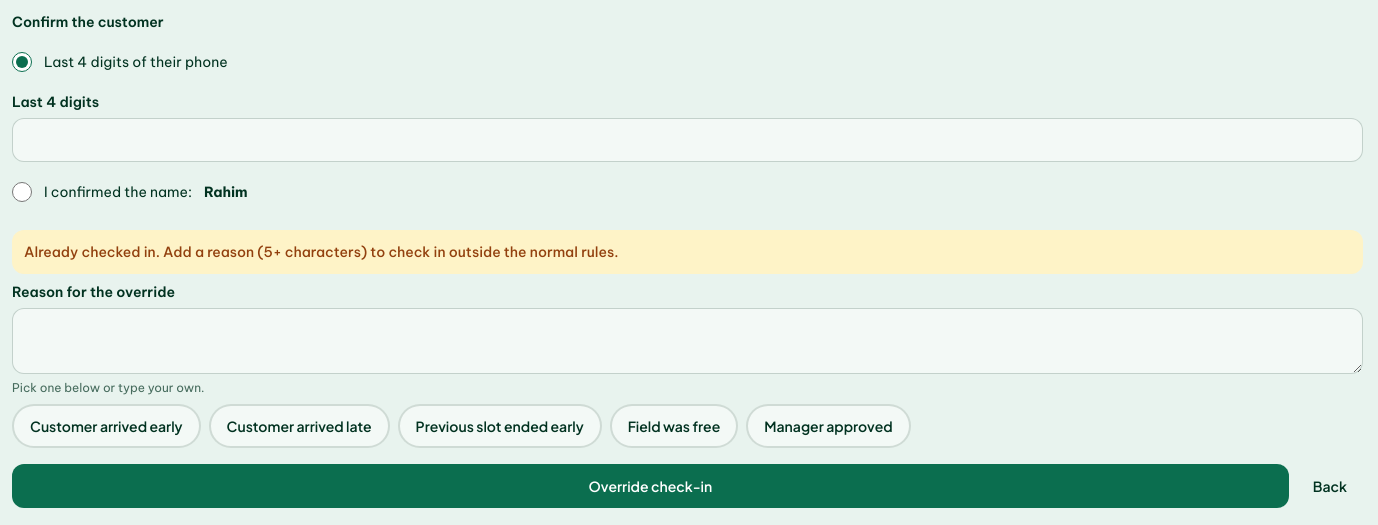
Test: CheckInForm inside the window / Super Admin override › a Super Admin re-check-in still requires a reason
Step 1. Click the radio button labelled "I confirmed the name: Rahim" → click(22, 192), box [12,182,32,202]
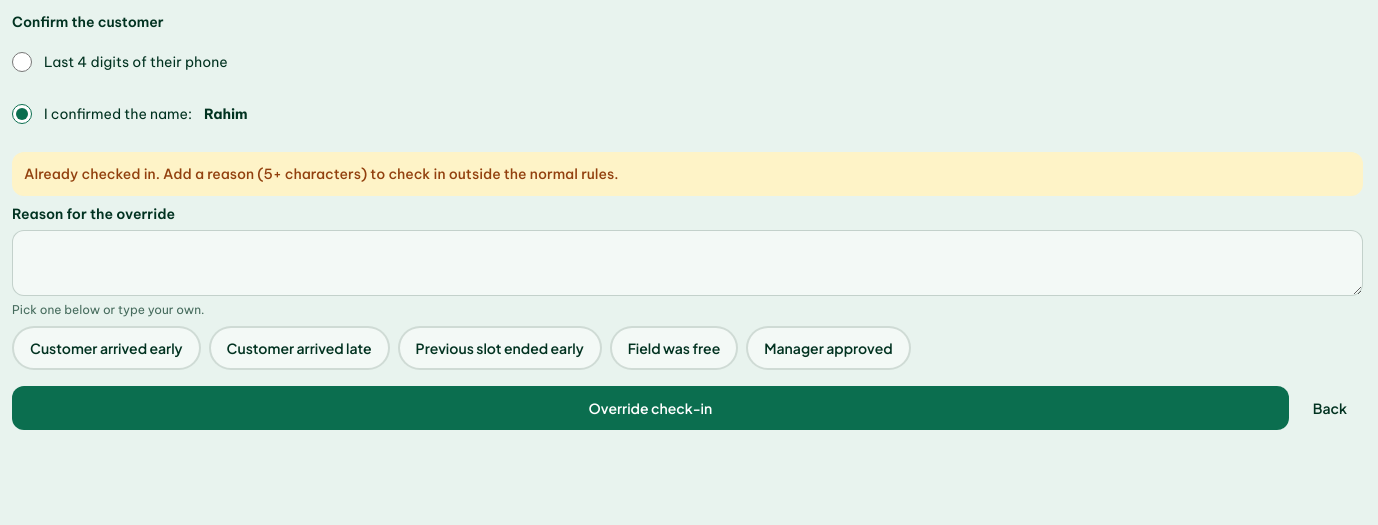
Step 2. Click the button "Override check-in" → click(650, 408), box [12,386,1289,430]
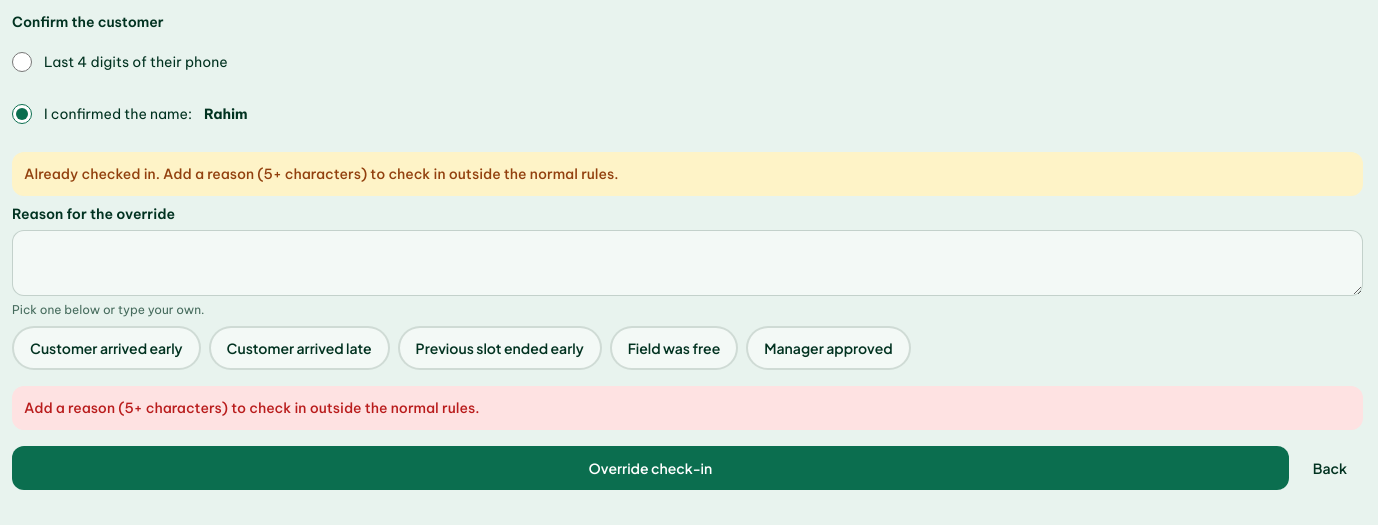
Result: the message reads "Add a reason (5+ characters) to check in outside the normal rules." at [24,399,479,417]
